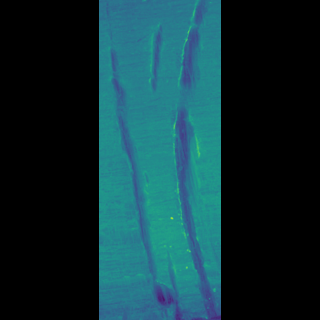Loch: (136, 1, 171, 318), (163, 0, 182, 318), (154, 21, 163, 98)
